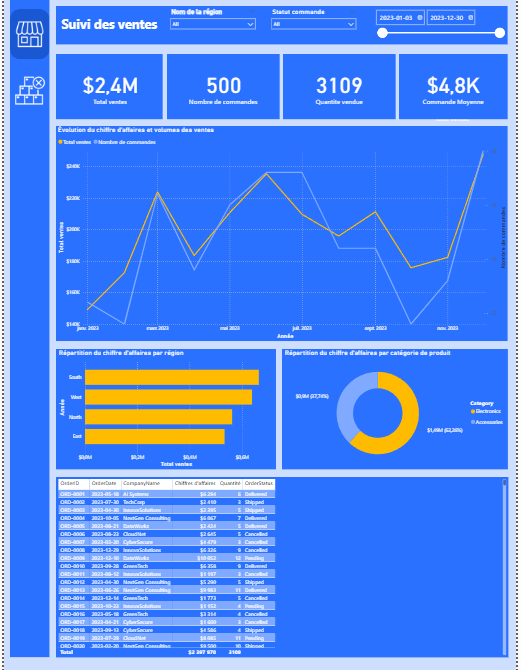

What the dashboard file says about the page in this screenshot:
{"tool":"powerbi","page":{"name":"Suivi ventes","canvas":[1280,2000],"ordinal":0},"visuals":[{"type":"shape","box":[14.3,0,98.6,1642.9],"z":0},{"type":"shape","box":[130.7,14.8,1129.5,96.2],"z":1000},{"type":"shape","box":[130.7,315.7,1129.5,537.6],"z":2000},{"type":"shape","box":[130.7,873,549.9,300.9],"z":3000},{"type":"shape","box":[695.4,873,564.7,300.9],"z":4000},{"type":"shape","box":[130,1191.4,1131.4,451.4],"z":5000},{"type":"textbox","box":[130,31.2,266.2,65],"z":6000},{"type":"card","fields":{"Values":["Client.Total ventes"]},"box":[415,135,280,163.3],"z":7000},{"type":"card","fields":{"Values":["Client.Total ventes"]},"box":[406.7,135,281.7,163.3],"z":8000},{"type":"card","fields":{"Values":["Client.Total ventes"]},"box":[988.3,176.7,265,163.3],"z":9000},{"type":"shape","box":[406.7,135,281.7,163.3],"z":10000},{"type":"shape","box":[130,135,266.7,163.3],"z":11000},{"type":"shape","box":[696.7,135,281.7,163.3],"z":12000},{"type":"shape","box":[988.3,135,271.7,163.3],"z":13000},{"type":"card","fields":{"Values":["Client.Commande Moyenne"]},"box":[988.3,135,271.7,163.3],"z":14000},{"type":"card","fields":{"Values":["Client.Total ventes"]},"box":[130,135,271.7,163.3],"z":15000},{"type":"card","fields":{"Values":["Ventes.Nombre de commandes"]},"box":[406.7,135,281.7,163.3],"z":16000},{"type":"card","fields":{"Values":["Ventes.Quantite vendue"]},"box":[696.7,135,281.7,163.3],"z":17000},{"type":"lineChart","title":"Évolution du chiffre d''affaires et volumes des ventes","fields":{"Category":["Ventes.OrderDate.Variation.Date Hierarchy.Year","Ventes.OrderDate.Variation.Date Hierarchy.Quarter","Ventes.OrderDate.Variation.Date Hierarchy.Month"],"Y":["Mesure.Total ventes"],"Y2":["Mesure.Nombre de commandes"]},"box":[130,315,1130,538.3],"z":18000},{"type":"barChart","title":"Répartition du chiffre d''affaires par région","fields":{"Y":["Mesure.Total ventes"],"Category":["Region.RegionName"]},"box":[131.2,872.5,550,301.2],"z":19000},{"type":"donutChart","title":"Répartition du chiffre d''affaires par catégorie de produit","fields":{"Category":["Produit.Category"],"Y":["Mesure.Total ventes"]},"box":[696.2,872.5,563.8,301.2],"z":20000},{"type":"tableEx","fields":{"Values":["Ventes.OrderID","Ventes.OrderDate","Client.CompanyName","Ventes.TotalPrice","Ventes.Quantity","Ventes.OrderStatus"]},"box":[130,1191.4,1131.4,451.4],"z":21000},{"type":"slicer","fields":{"Values":["Ventes.OrderStatus"]},"box":[658.6,14.3,232.9,95.7],"z":22000},{"type":"slicer","fields":{"Values":["Region.RegionName"]},"box":[405.7,15.7,234.3,94.3],"z":23000},{"type":"slicer","fields":{"Values":["Ventes.OrderDate"]},"box":[918.6,15.7,342.9,95.7],"z":24000},{"type":"image","box":[14.3,155.7,98.6,142.9],"z":26000},{"type":"shape","box":[14.3,22.9,98.6,125.7],"z":26125},{"type":"image","box":[14.3,14.3,98.6,141.4],"z":26250}]}

Visuals, with their boxes on the page's 1280x2000 design canvas (x1, y1, x2, y2). These are canvas units, not pixel positions in the 521x670 screenshot, which may show the page scaled, cropped or inside an application window:
shape: 14 0 113 1643
shape: 131 15 1260 111
shape: 131 316 1260 853
shape: 131 873 681 1174
shape: 695 873 1260 1174
shape: 130 1191 1261 1643
textbox: 130 31 396 96
card - Client.Total ventes: 415 135 695 298
card - Client.Total ventes: 407 135 688 298
card - Client.Total ventes: 988 177 1253 340
shape: 407 135 688 298
shape: 130 135 397 298
shape: 697 135 978 298
shape: 988 135 1260 298
card - Client.Commande Moyenne: 988 135 1260 298
card - Client.Total ventes: 130 135 402 298
card - Ventes.Nombre de commandes: 407 135 688 298
card - Ventes.Quantite vendue: 697 135 978 298
"Évolution du chiffre d''affaires et volumes des ventes" lineChart: 130 315 1260 853
"Répartition du chiffre d''affaires par région" barChart: 131 872 681 1174
"Répartition du chiffre d''affaires par catégorie de produit" donutChart: 696 872 1260 1174
tableEx - Ventes.OrderID x Ventes.OrderDate: 130 1191 1261 1643
slicer - Ventes.OrderStatus: 659 14 892 110
slicer - Region.RegionName: 406 16 640 110
slicer - Ventes.OrderDate: 919 16 1262 111
image: 14 156 113 299
shape: 14 23 113 149
image: 14 14 113 156
